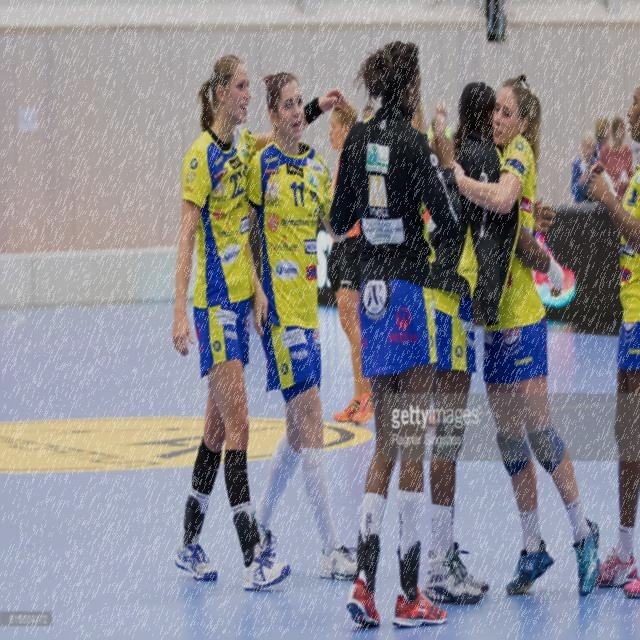pessoa: (167, 49, 351, 594), (451, 73, 604, 601), (421, 78, 566, 608), (327, 35, 452, 634), (236, 68, 375, 588), (588, 78, 640, 600), (324, 103, 377, 424), (596, 114, 634, 202), (404, 94, 452, 150), (570, 130, 598, 203), (590, 115, 613, 162), (361, 96, 377, 122)
